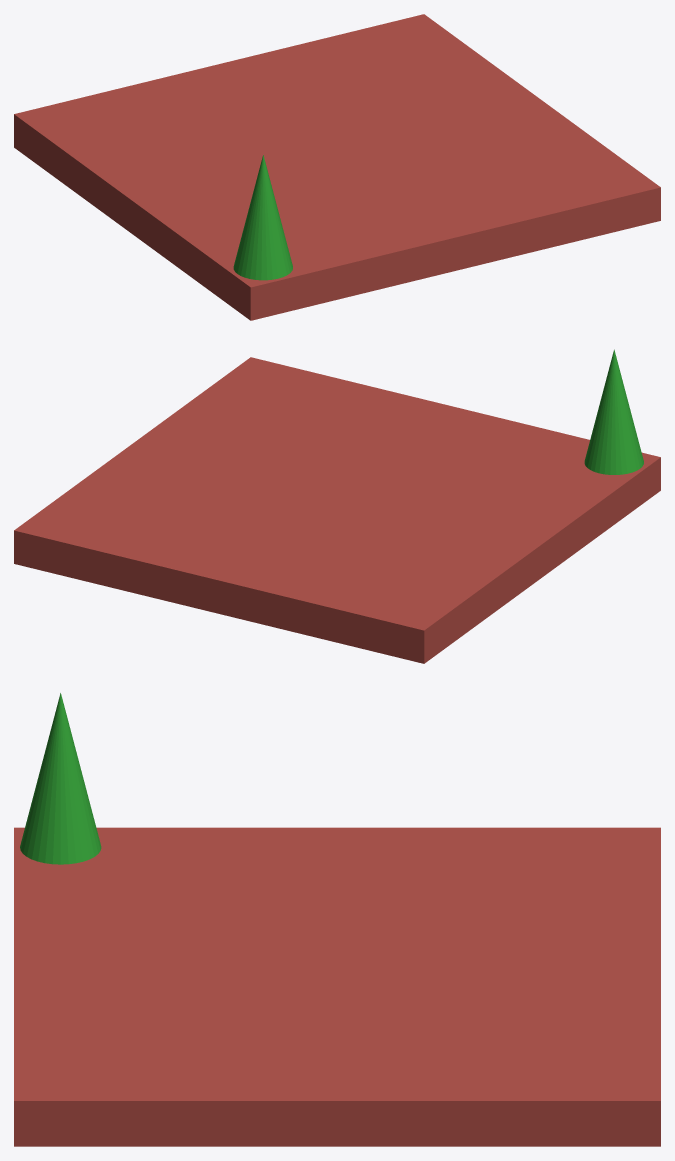
The model's file is grass to touch.glb.
3 renders of one model, top to bottom at view 1: azimuth 30°, elevation 25°; view 2: azimuth 150°, elevation 25°; view 3: azimuth 270°, elevation 25°, orthographic. The views are drawn at different scales.
Parts seen in each view (by area): view 1: Cube, Cone; view 2: Cube, Cone; view 3: Cube, Cone.
Boxes of the visible parts, x1,y1,x2,y2 form: Cube: (14,14,660,320); Cone: (233,155,292,280); Cube: (14,357,660,663); Cone: (584,349,643,474); Cube: (14,827,660,1146); Cone: (20,693,101,864).
Size of the model in its own units: 2.73 by 0.9339 by 2.73.
